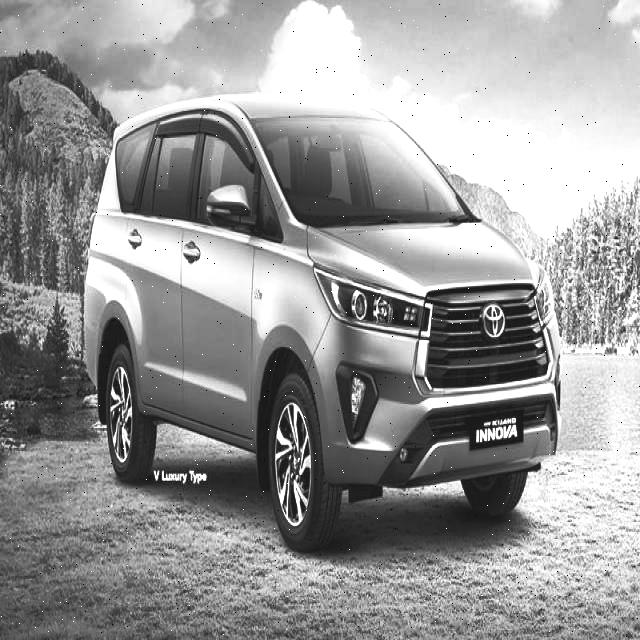Car: (84, 80, 568, 557)
